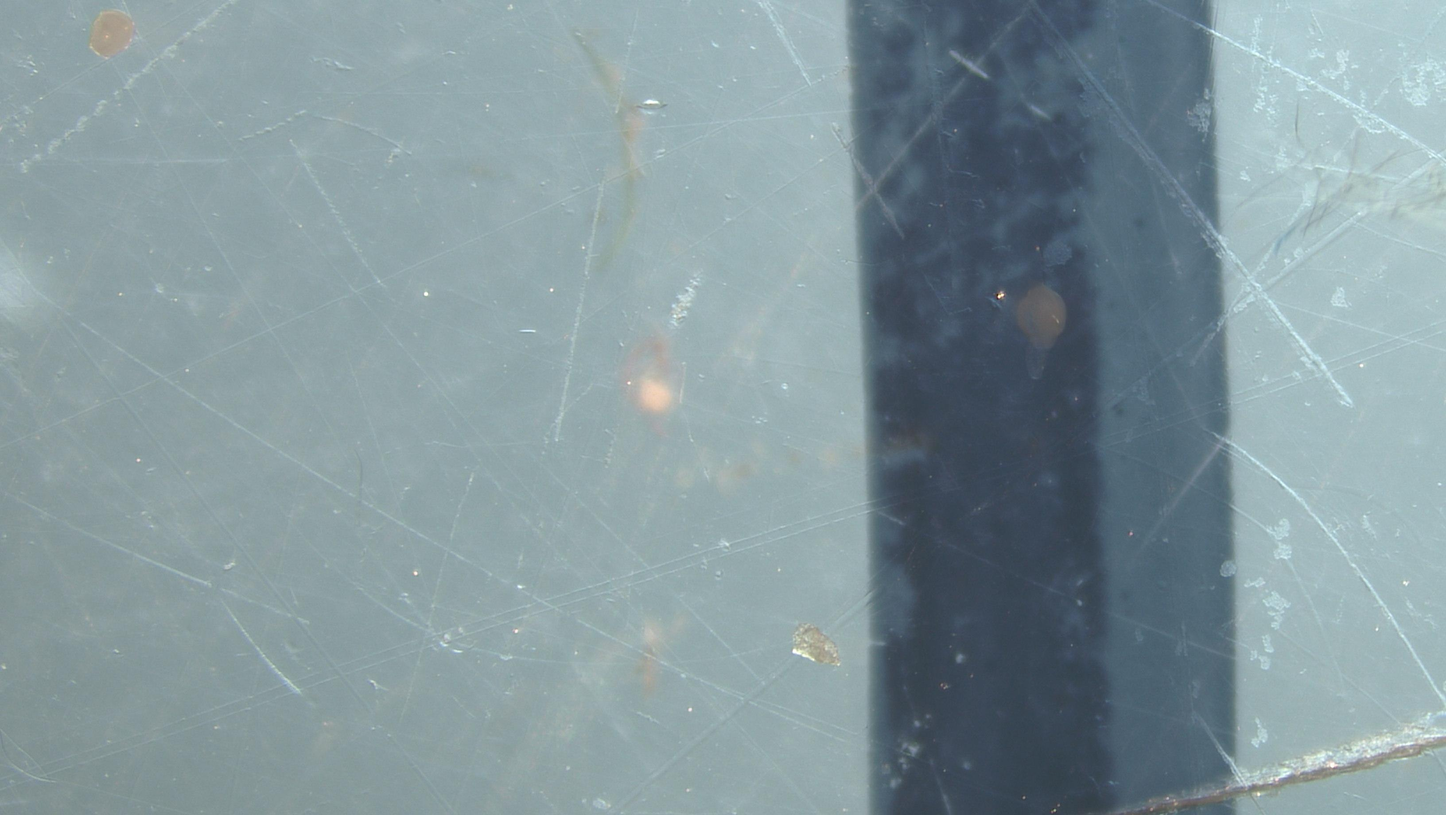live: (1016, 284, 1067, 379), (89, 9, 135, 58)
